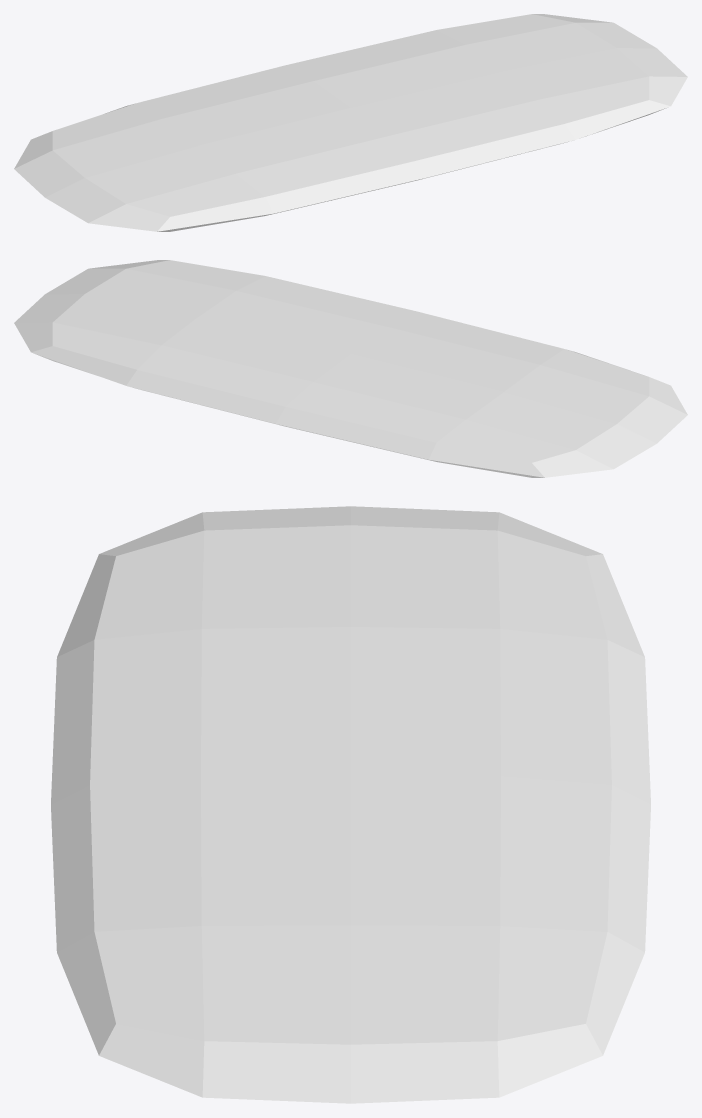
Rendered from SM_BedRoll.fbx.
The picture shows the model from 3 angles, top to bottom: view 1: azimuth 30°, elevation 25°; view 2: azimuth 150°, elevation 25°; view 3: azimuth 270°, elevation 25°; orthographic projection. The views are drawn at different scales.
Visible parts, largest first — view 1: SM_BedSheet; view 2: SM_BedSheet; view 3: SM_BedSheet.
Boxes of the visible parts, x1,y1,x2,y2 form: SM_BedSheet: [14, 14, 687, 231]; SM_BedSheet: [14, 260, 687, 477]; SM_BedSheet: [51, 506, 650, 1103].
Size of the model in its own units: 1228 by 57.47 by 521.
